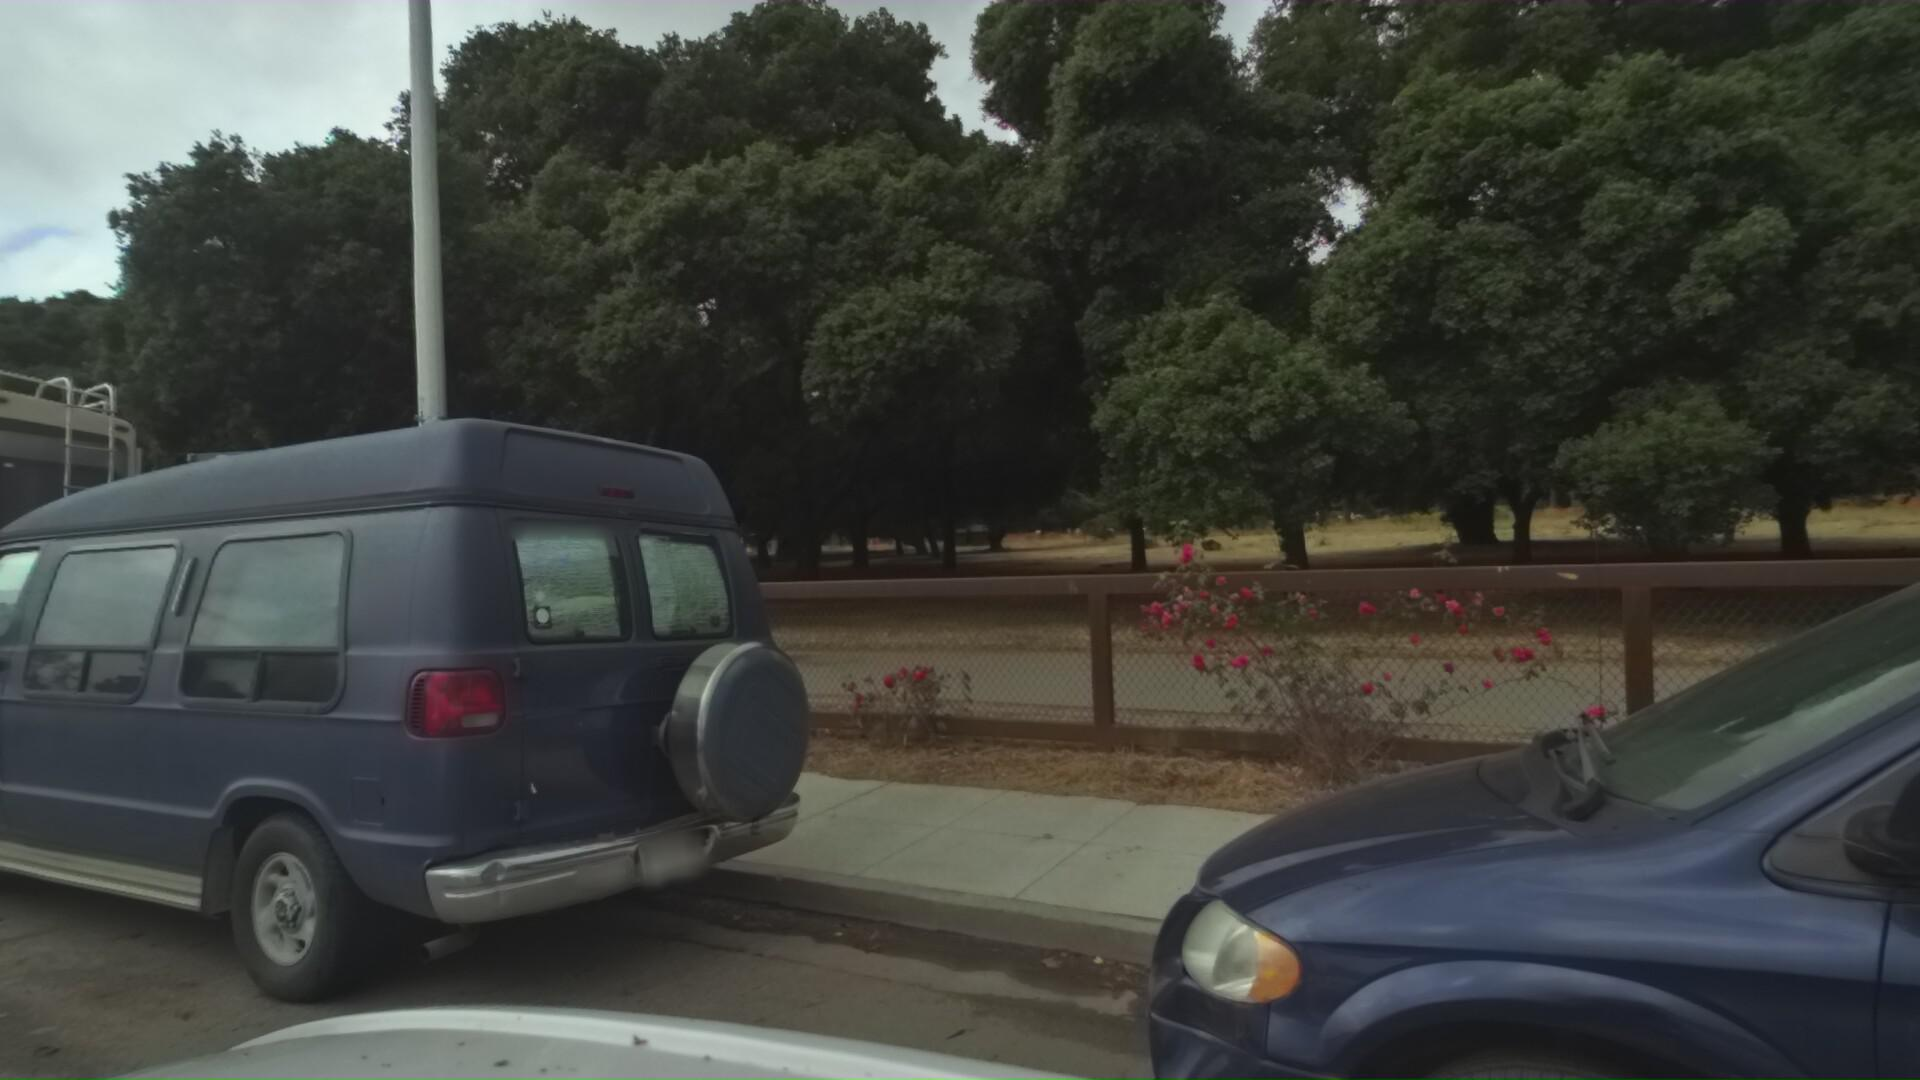car: (0, 419, 884, 1080)
other_vehicle: (0, 289, 175, 913)
